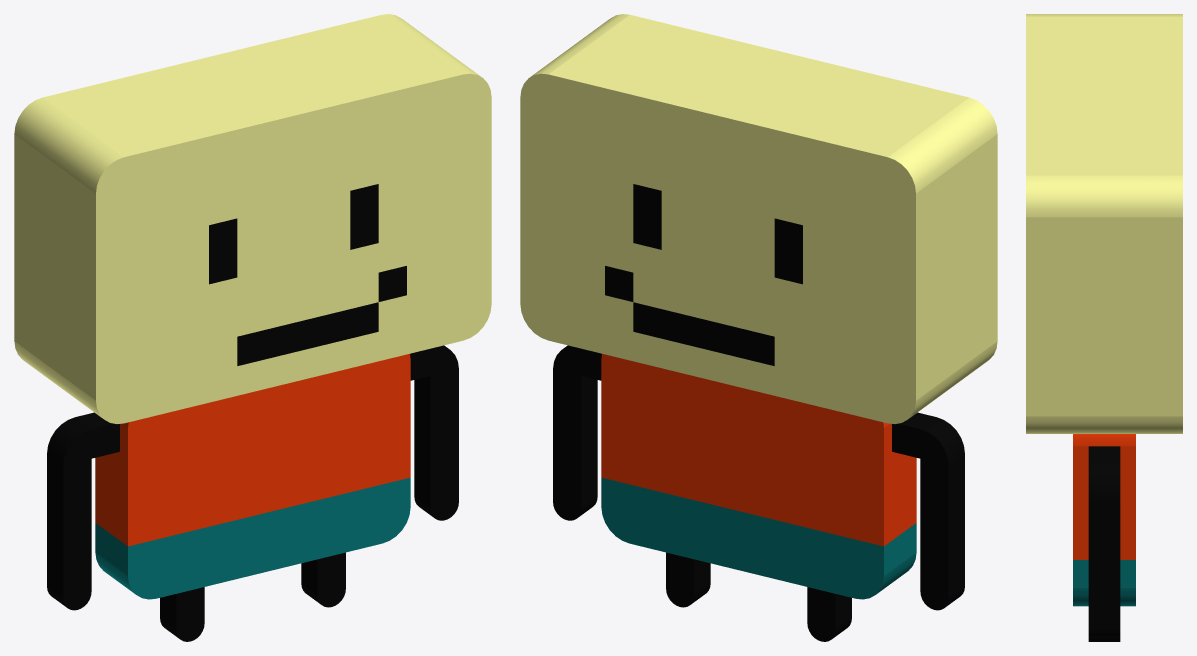
File: guy.dae
3 views of the same model, side by side, from view 1: azimuth 30°, elevation 25°; view 2: azimuth 150°, elevation 25°; view 3: azimuth 270°, elevation 25° (orthographic). The views are drawn at different scales.
Parts seen in each view (by area): view 1: generated; view 2: generated; view 3: generated.
Boxes of the visible parts, <box> form: generated: <box>14,14,491,641</box>; generated: <box>520,14,997,641</box>; generated: <box>1026,14,1182,641</box>.
Size of the model in its own units: 14 by 18 by 5.
